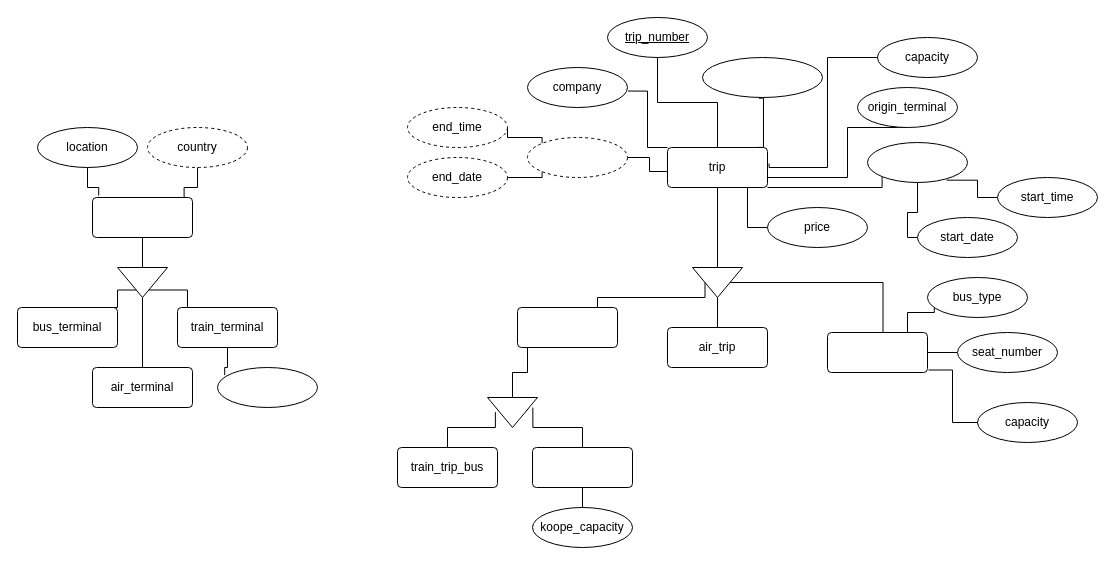
Image size: 1115x565. Some labels were removed from this diagram. The shapes that lost their labels are listed below. From the top down, each one's centre as x and y in pixels, then its label:
At (x=762, y=77): "destination_terminal".
At (x=577, y=157): "end".
At (x=917, y=162): "start".
At (x=142, y=217): "terminal".
At (x=567, y=327): "train_trip".
At (x=877, y=352): "bus_trip".
At (x=267, y=387): "train_type".
At (x=582, y=467): "tain_trip_koope".
